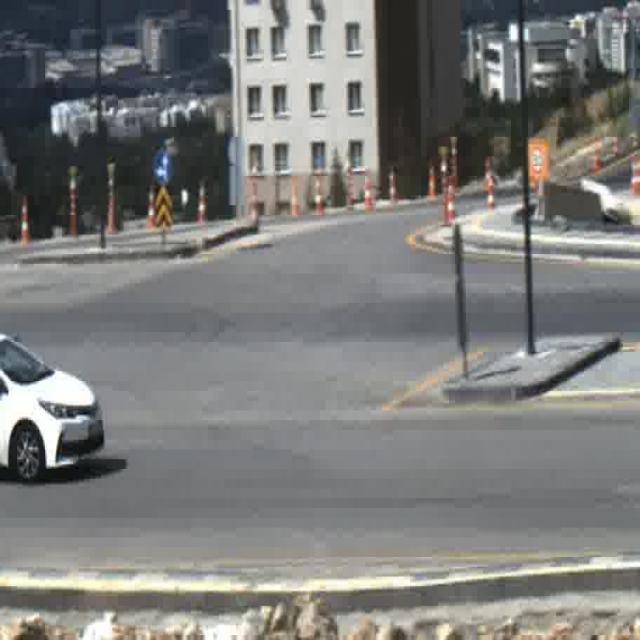Car: (0, 336, 106, 479)
